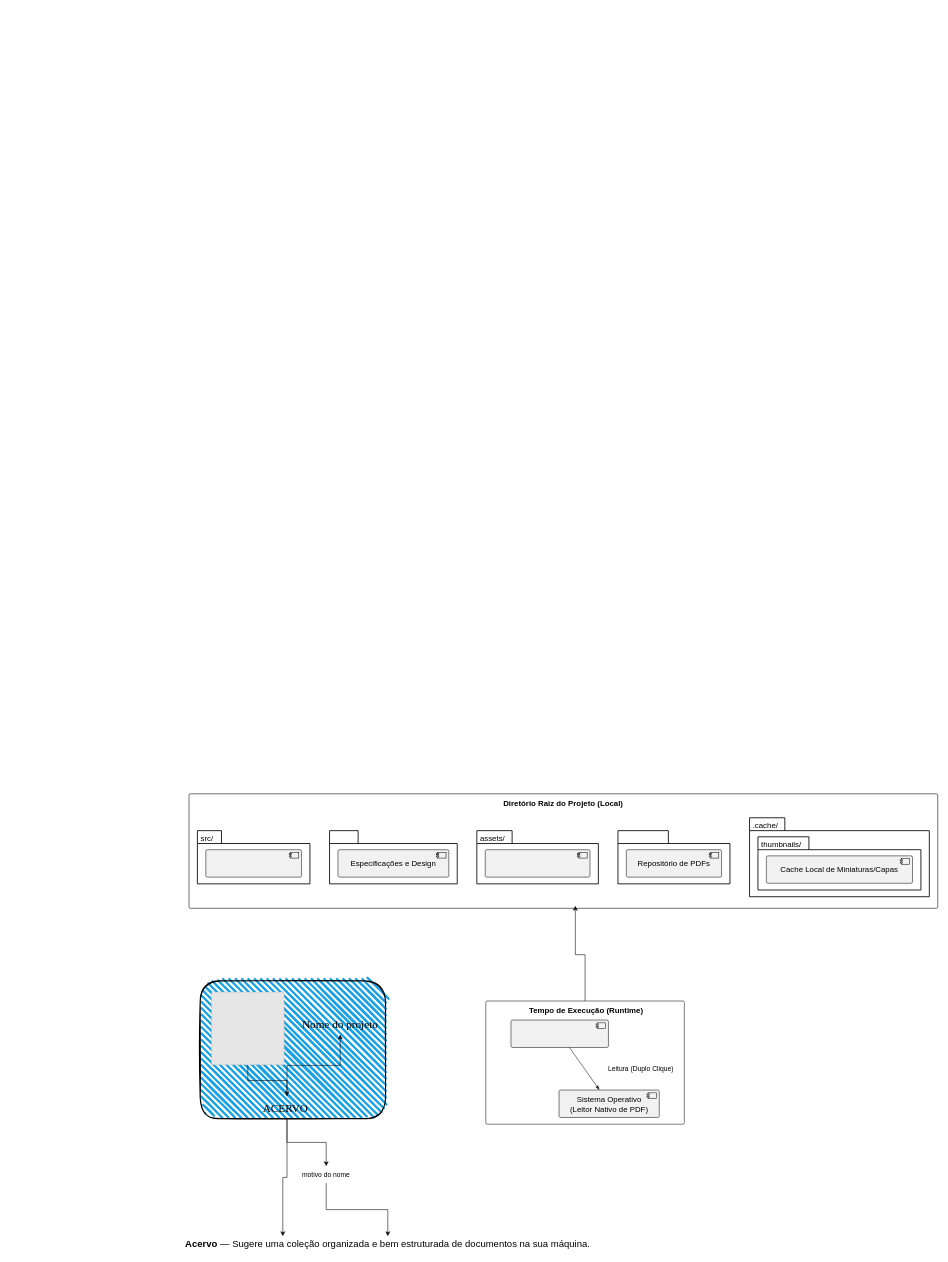
This 948x1262 diagram has some shape labels left out. Grey dashed boxes stand in for pictures. Here are the shapes that lost their labels. From the top down, the box of each, then its label:
(205, 849, 302, 877): Lógica do Aplicativo
(329, 830, 457, 884): doc/
(485, 849, 590, 877): Identidade Visual (PNG)
(617, 830, 730, 884): meus_pdfs/
(510, 1019, 608, 1047): Aplicação Python (Zero-Configuration)
